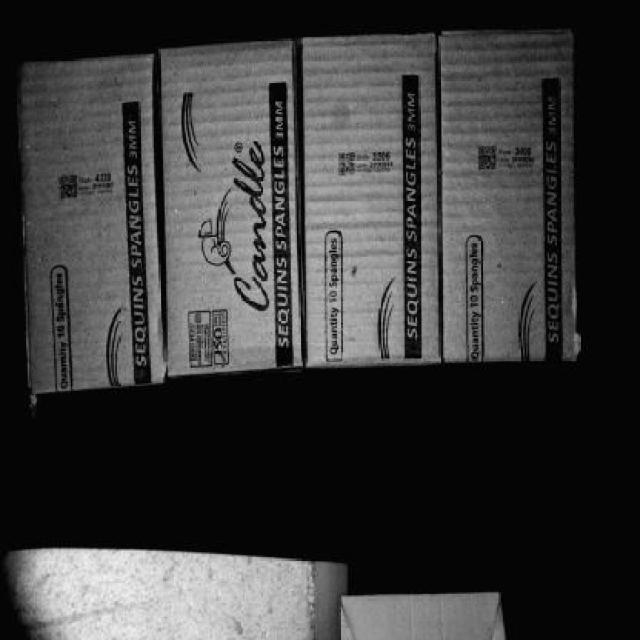cardboxes: (25, 55, 167, 391), (302, 32, 447, 356), (302, 42, 447, 366), (163, 56, 308, 370), (450, 37, 576, 365)
